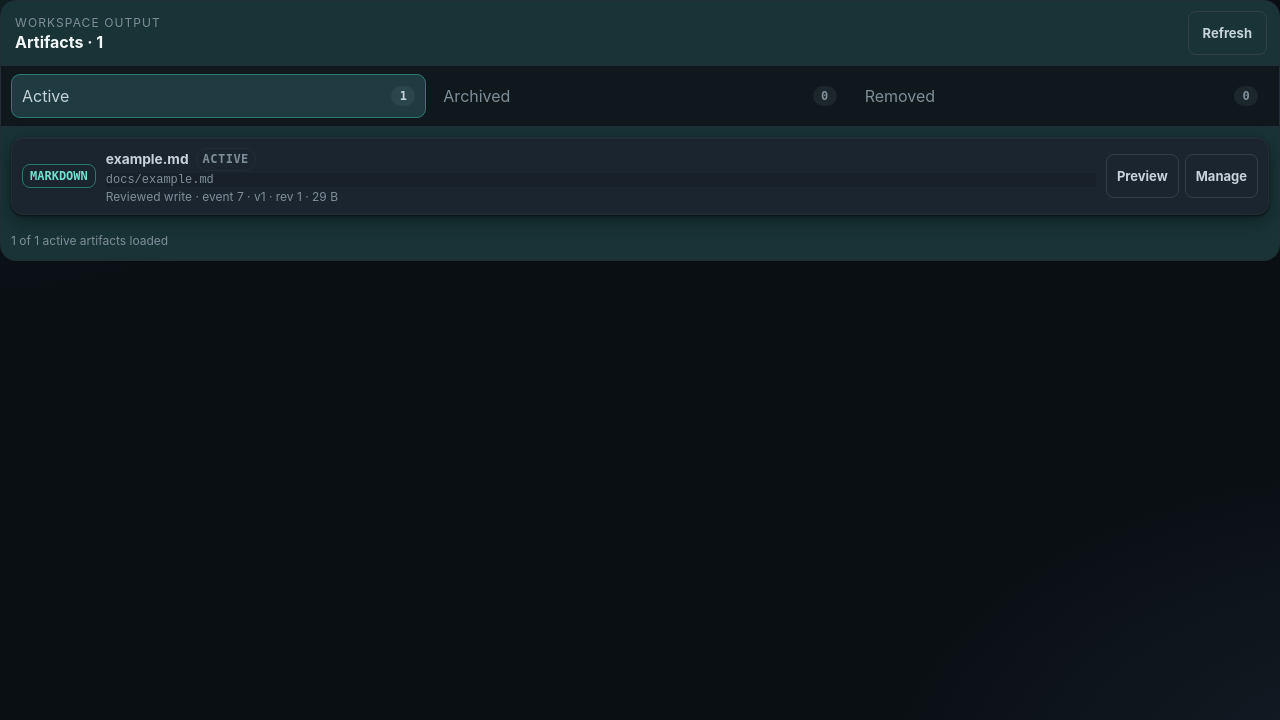
Test: AgentArtifactsPanel › shows provenance cards and lazily revalidates an inert text preview
Expected: the text "Artifacts · 1" is shown, [15, 32, 103, 52]
What coordinates should you click on to do the following:
click the button with aria-label "Preview example.md"
I would click on:
 (1142, 176)
Its box is [1106, 154, 1179, 198].
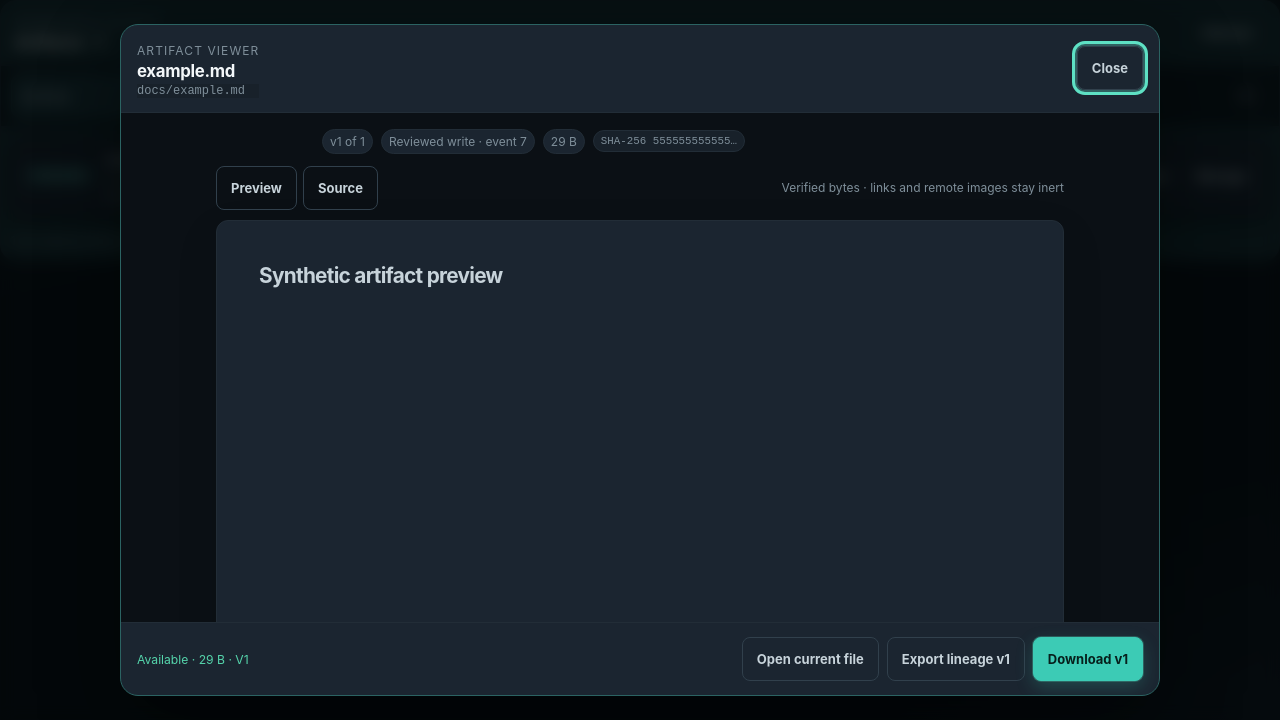
Now the dialog is shown
Now the heading "Synthetic artifact preview" is shown, box [259, 263, 503, 288]
What coordinates should you click on to do the following:
click the button "Open current file"
I would click on:
 (810, 659)
Its box is [742, 637, 879, 681].
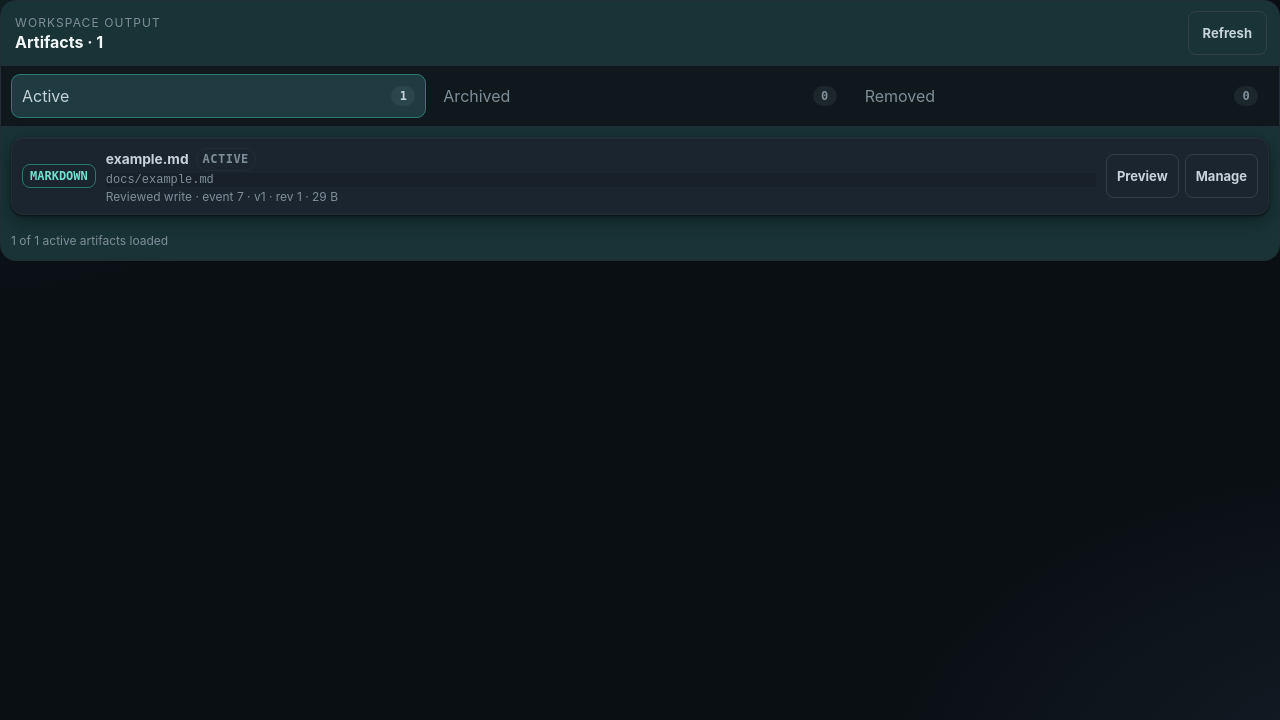
Now the dialog is gone
